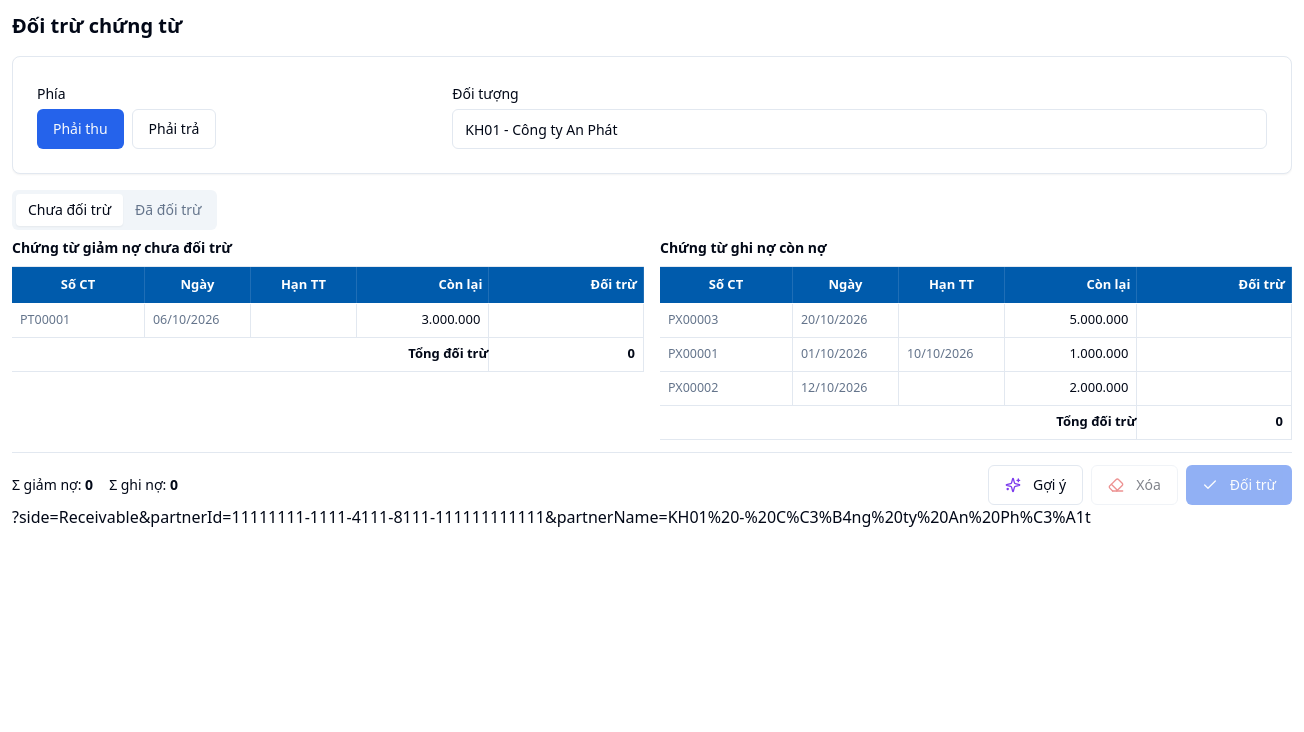
Scenario: DebtMatchingPage › suggest then save sends paired items
Check: the dropdown labelled "Đối tượng" holds "KH01 - Công ty An Phát", box top-left (452, 109), bottom-right (1267, 149)
Click the button "Gợi ý": (1036, 484) top-left (988, 464), bottom-right (1083, 504)
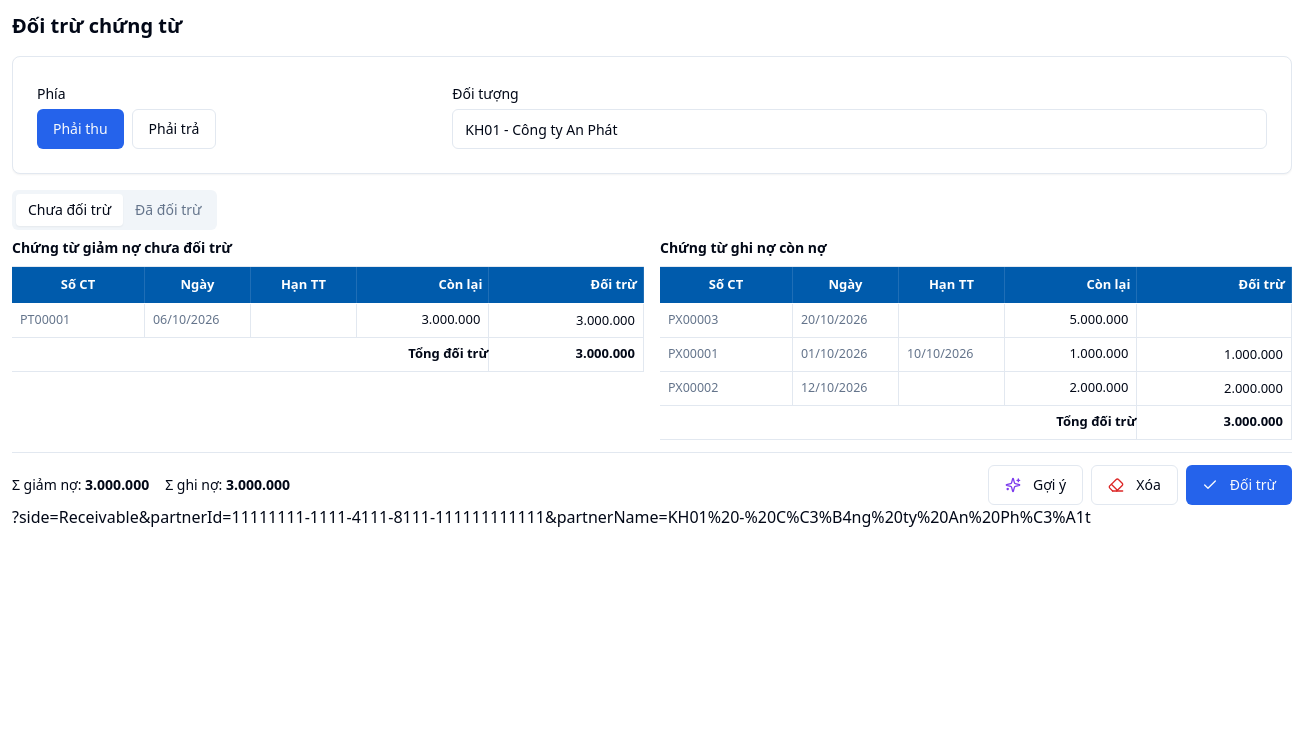
Check: the field named "Đối trừ PT00001" holds "3.000.000", box top-left (489, 304), bottom-right (643, 336)
Check: the field named "Đối trừ PX00001" holds "1.000.000", box top-left (1137, 338), bottom-right (1291, 370)
Check: the field named "Đối trừ PX00002" holds "2.000.000", box top-left (1137, 372), bottom-right (1291, 404)
Click the button "Đối trừ": (1239, 484) top-left (1186, 464), bottom-right (1292, 504)
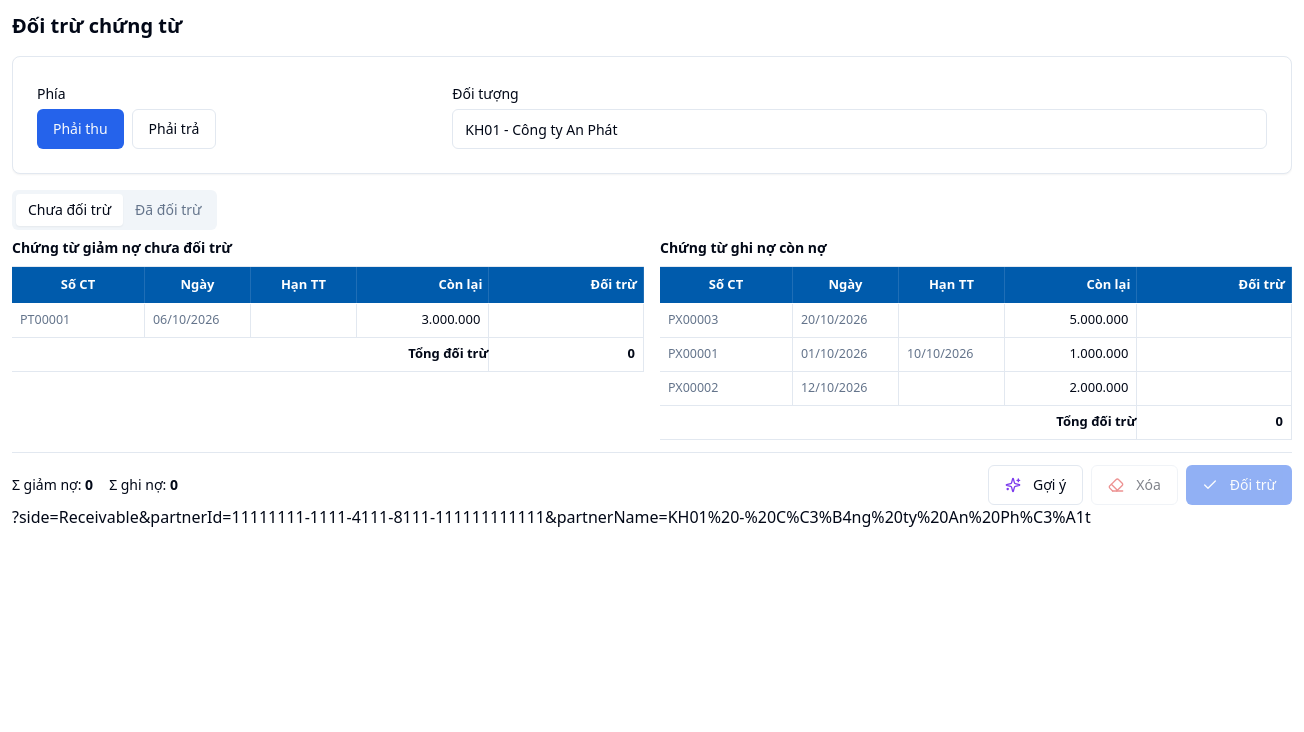
Check: the text with test id "sum-decrease" reads "0", box top-left (85, 474), bottom-right (93, 494)
Check: the text with test id "sum-increase" reads "0", box top-left (170, 474), bottom-right (178, 494)
"Xóa" clears a suggestion.
Click the button "Gợi ý": (1036, 484) top-left (988, 464), bottom-right (1083, 504)
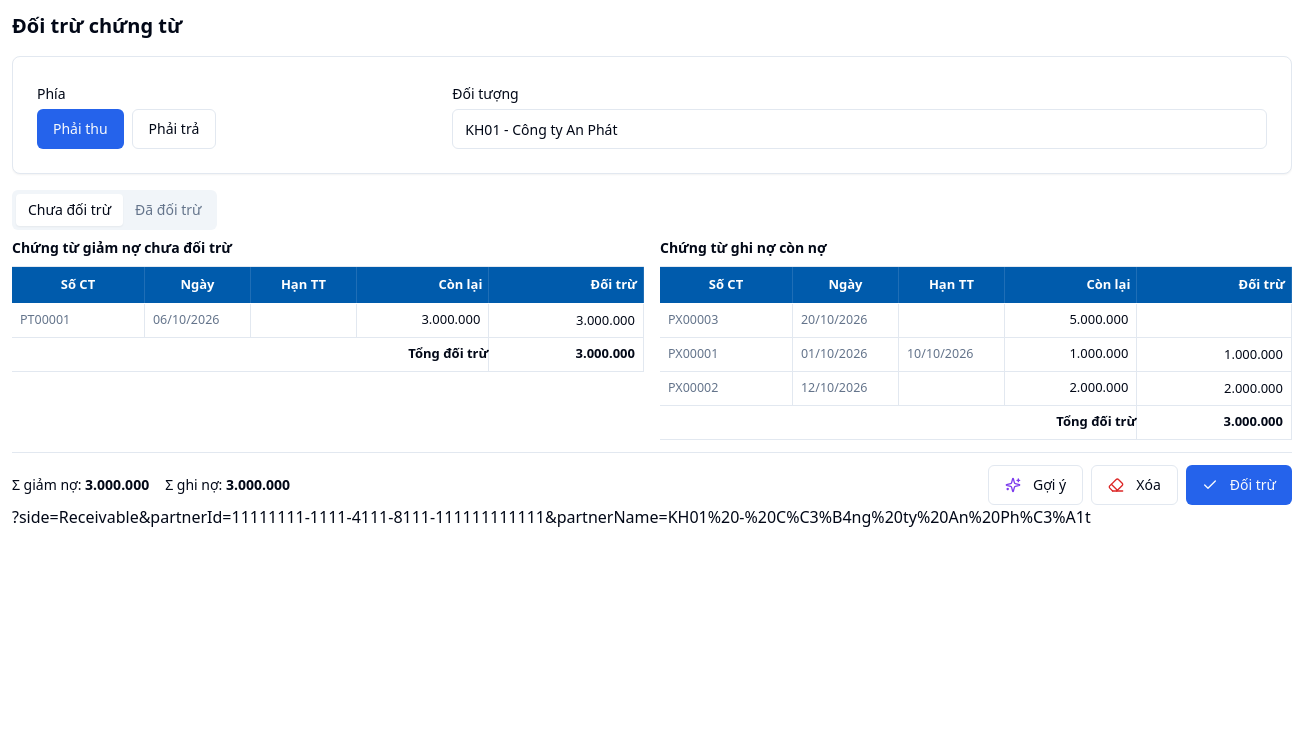
Check: the text with test id "sum-increase" reads "3.000.000", box top-left (226, 474), bottom-right (290, 494)
Click the button "Xóa": (1135, 484) top-left (1091, 464), bottom-right (1178, 504)
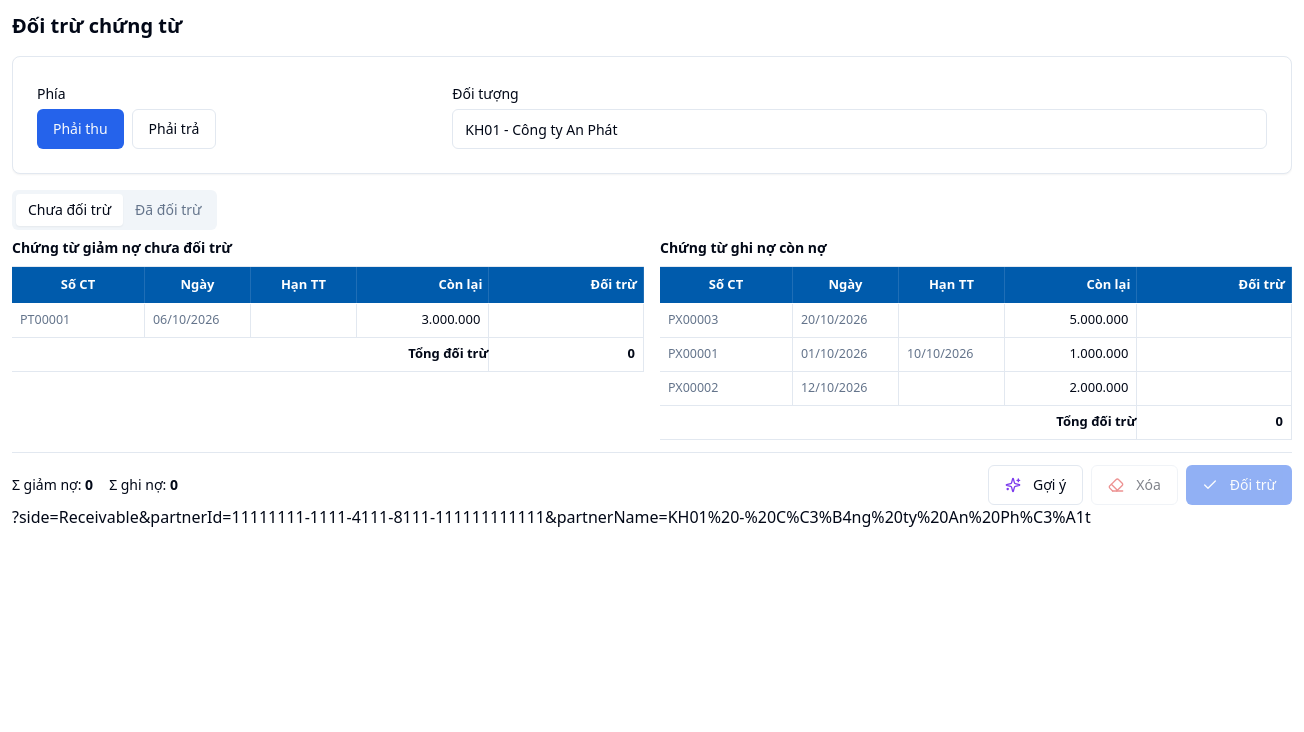
Check: the text with test id "sum-decrease" reads "0", box top-left (85, 474), bottom-right (93, 494)
Check: the text with test id "sum-increase" reads "0", box top-left (170, 474), bottom-right (178, 494)
